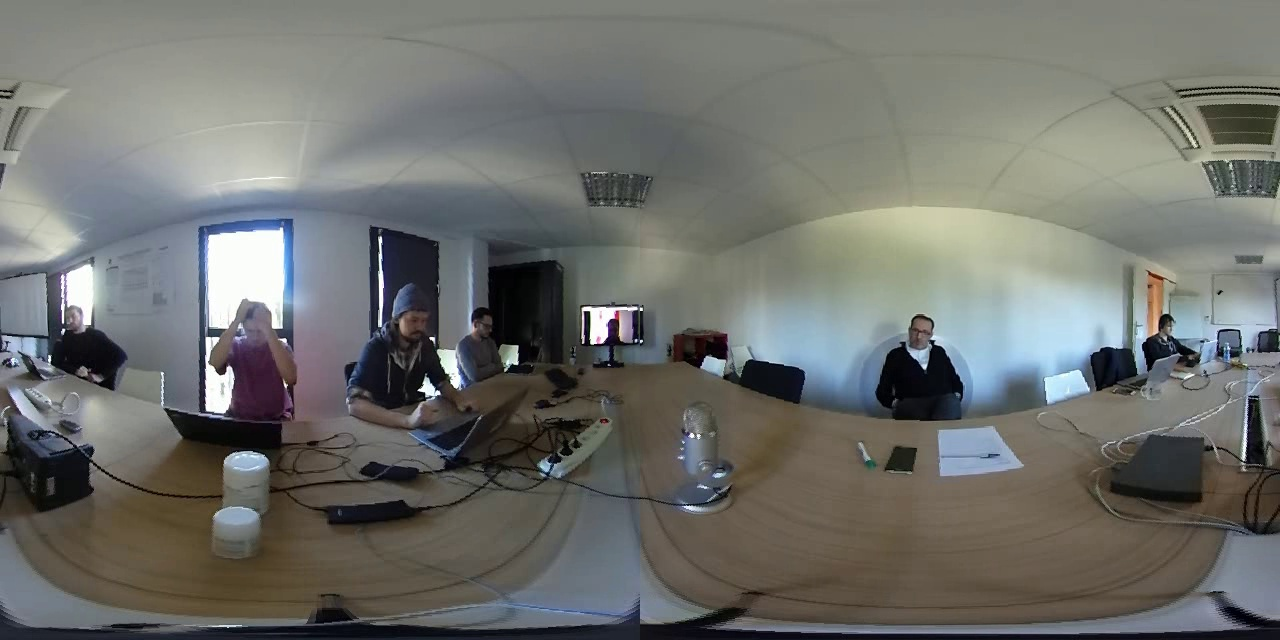person: (338, 277, 448, 430), (196, 292, 310, 418), (875, 310, 975, 426), (43, 295, 126, 391), (454, 297, 514, 383), (1141, 310, 1202, 371), (585, 307, 635, 341)
